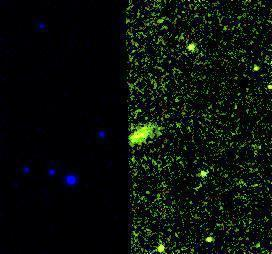star: (243, 52, 272, 82)
